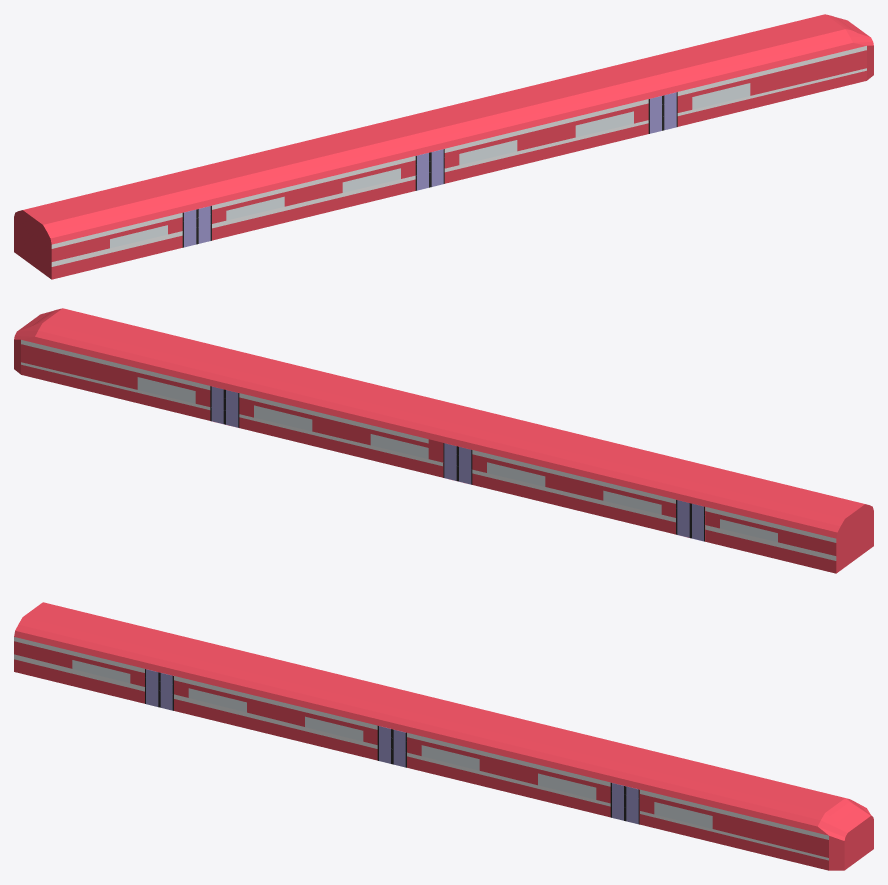
The model's file is Train_with_texture_0.1.fbx.
3 views of the same model, one above another, from view 1: azimuth 30°, elevation 25°; view 2: azimuth 150°, elevation 25°; view 3: azimuth 330°, elevation 25° (orthographic).
Parts seen in each view (by area): view 1: Cube; view 2: Cube; view 3: Cube.
Part boxes in pixels (<box>): Cube: <box>14,14,873,279</box>; Cube: <box>14,308,873,573</box>; Cube: <box>14,602,873,870</box>.
Bounding box in the file's own units: 3796 × 213 × 303.
